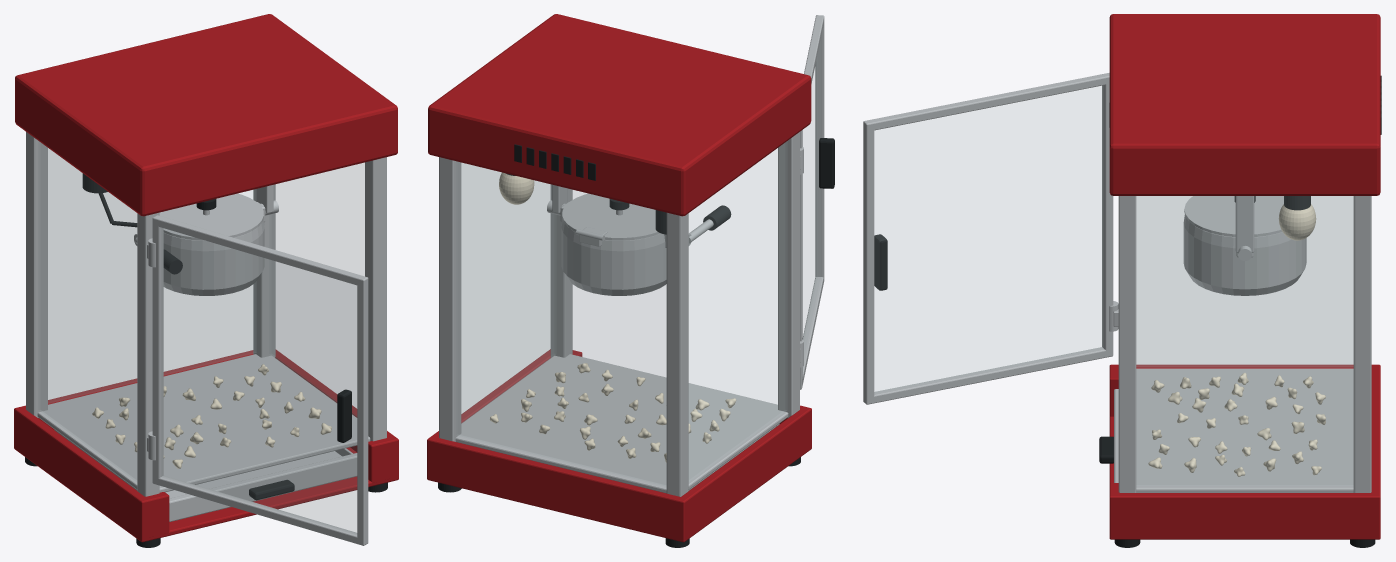
3 renders of one model, left to right at view 1: azimuth 30°, elevation 25°; view 2: azimuth 150°, elevation 25°; view 3: azimuth 270°, elevation 25°, orthographic. The views are drawn at different scales.
Parts seen in each view (by area): view 1: Top canopy, Door glass, Side glass -0.188, Rear glass, Serving floor, Side glass 0.188, Cabinet base side -0.20255, Corner post -0.185 0.157, Corner post 0.185 -0.157, Hollow kettle, Corner post -0.185 -0.157, Crumb drawer front (+14 smaller); view 2: Rear glass, Top canopy, Side glass -0.188, Serving floor, Side glass 0.188, Cabinet base rear, Corner post -0.185 0.157, Corner post 0.185 0.157, Cabinet base side -0.20255, Corner post -0.185 -0.157, Hollow kettle, Door glass (+10 smaller); view 3: Side glass 0.188, Door glass, Top canopy, Side glass -0.188, Serving floor, Cabinet base side 0.20255, Hollow kettle, Corner post 0.185 0.157, Corner post 0.185 -0.157, Door side rail 0.171, Kettle lid, Door cross rail 0.511 (+8 smaller).
Boxes of the visible parts, x1,y1,x2,y2 form: Top canopy: (15,14,397,216); Door glass: (162,228,356,533); Side glass -0.188: (39,143,136,481); Rear glass: (48,148,255,402); Serving floor: (37,354,370,492); Side glass 0.188: (271,163,364,416); Cabinet base side -0.20255: (14,407,147,538); Corner post -0.185 0.157: (26,132,47,418); Corner post 0.185 -0.157: (365,157,386,441); Hollow kettle: (163,219,264,295); Corner post -0.185 -0.157: (137,212,159,496); Crumb drawer front: (169,453,357,521); Rear glass: (457,162,666,485); Top canopy: (428,14,811,216); Side glass -0.188: (689,143,786,481); Serving floor: (455,354,788,493); Side glass 0.188: (462,163,554,422); Cabinet base rear: (432,438,682,537); Corner post -0.185 0.157: (666,212,688,496); Corner post 0.185 0.157: (439,157,461,441); Cabinet base side -0.20255: (676,407,811,538); Corner post -0.185 -0.157: (778,132,799,418); Hollow kettle: (561,219,666,295); Door glass: (803,56,817,343); Side glass 0.188: (1136,196,1353,485); Door glass: (874,86,1102,392); Top canopy: (1109,14,1380,195); Side glass -0.188: (1137,196,1352,366); Serving floor: (1136,368,1353,492); Cabinet base side 0.20255: (1109,493,1380,535); Hollow kettle: (1183,215,1306,295); Corner post 0.185 0.157: (1353,196,1371,492); Corner post 0.185 -0.157: (1118,196,1136,492); Door side rail 0.171: (863,120,874,404); Kettle lid: (1184,196,1283,236); Door cross rail 0.511: (870,74,1108,130).
Bounding box in the file's own units: 0.4191 × 0.5969 × 0.6923.
